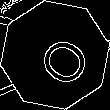O_NW: (22, 23, 88, 87)
